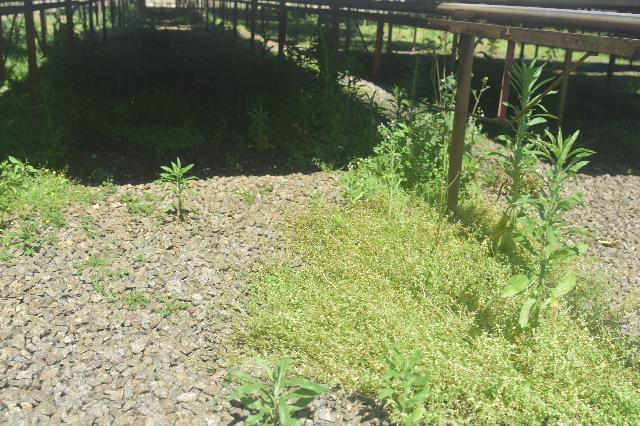MalezaMontesDelPlata: (499, 128, 598, 343), (239, 259, 370, 369), (404, 234, 497, 366), (492, 54, 546, 265), (499, 347, 638, 426), (0, 156, 81, 264), (221, 347, 329, 426), (294, 207, 403, 281), (365, 115, 418, 222), (372, 340, 437, 426), (154, 154, 205, 236)
